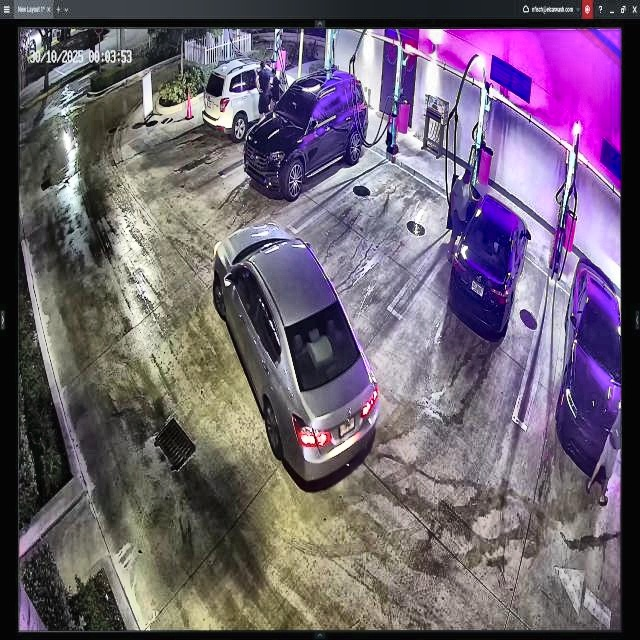Car: (212, 224, 376, 479), (245, 69, 368, 195), (454, 175, 530, 336)
